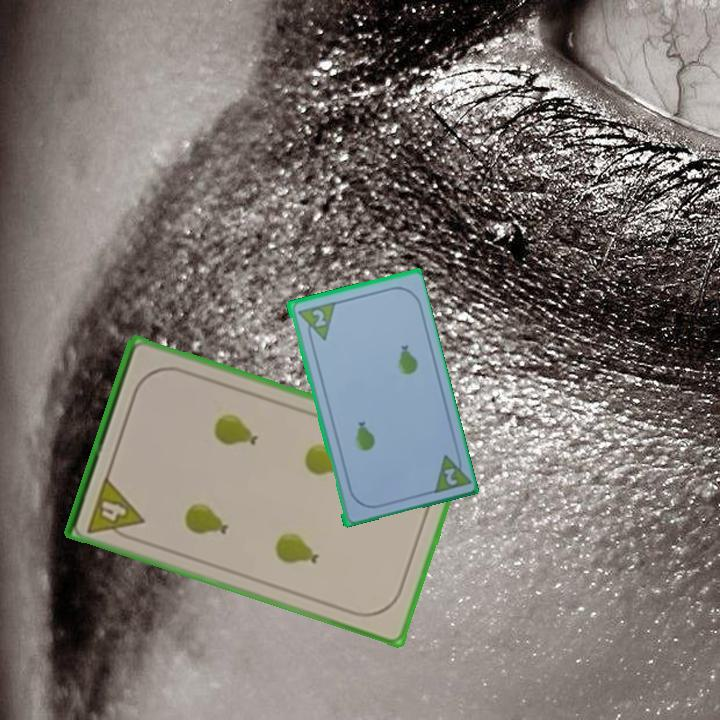2p: (428, 447, 471, 496), (308, 305, 328, 329)
4p: (83, 472, 147, 544)
